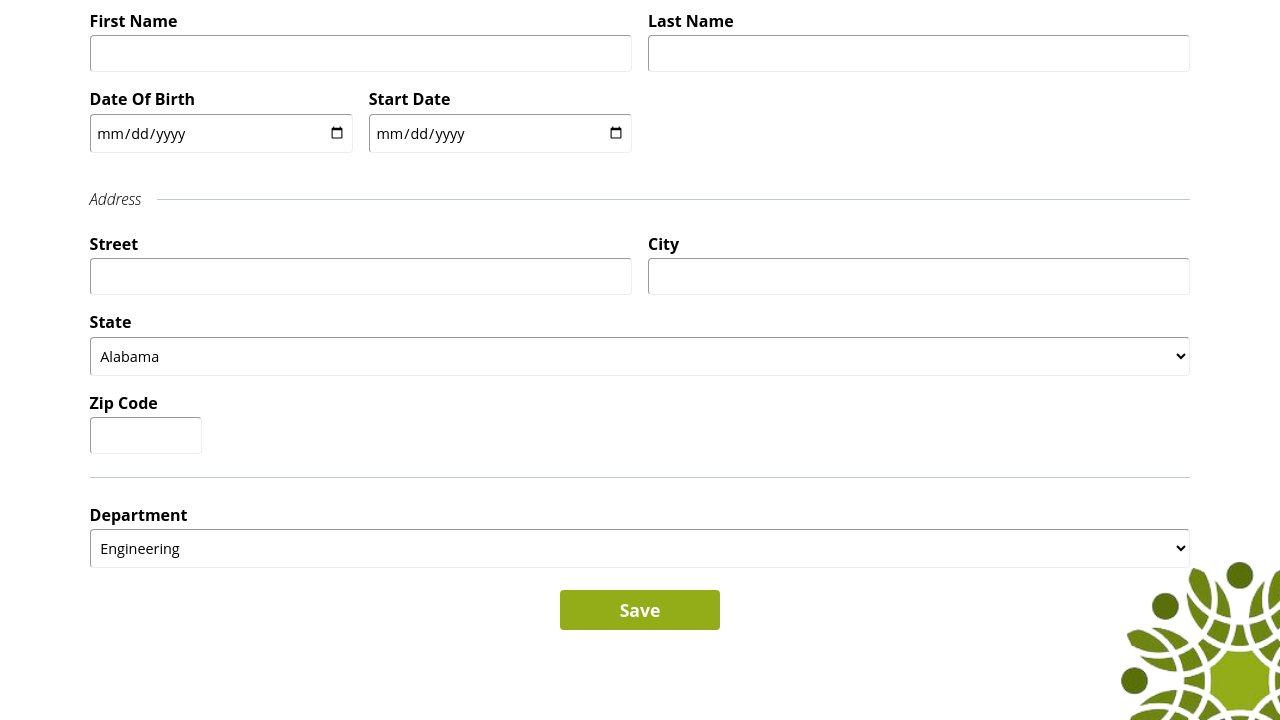
Test case: Modal › should open modal
Type "Bob" into the field with test id "first-name" at (361,54), box top-left (90, 35), bottom-right (632, 72)
Type "Leponge" into the field with test id "last-name" at (919,54), box top-left (648, 35), bottom-right (1190, 72)
Type "1982-08-28" into the date field with test id "date-of-birth" at (221,133), box top-left (90, 114), bottom-right (353, 153)
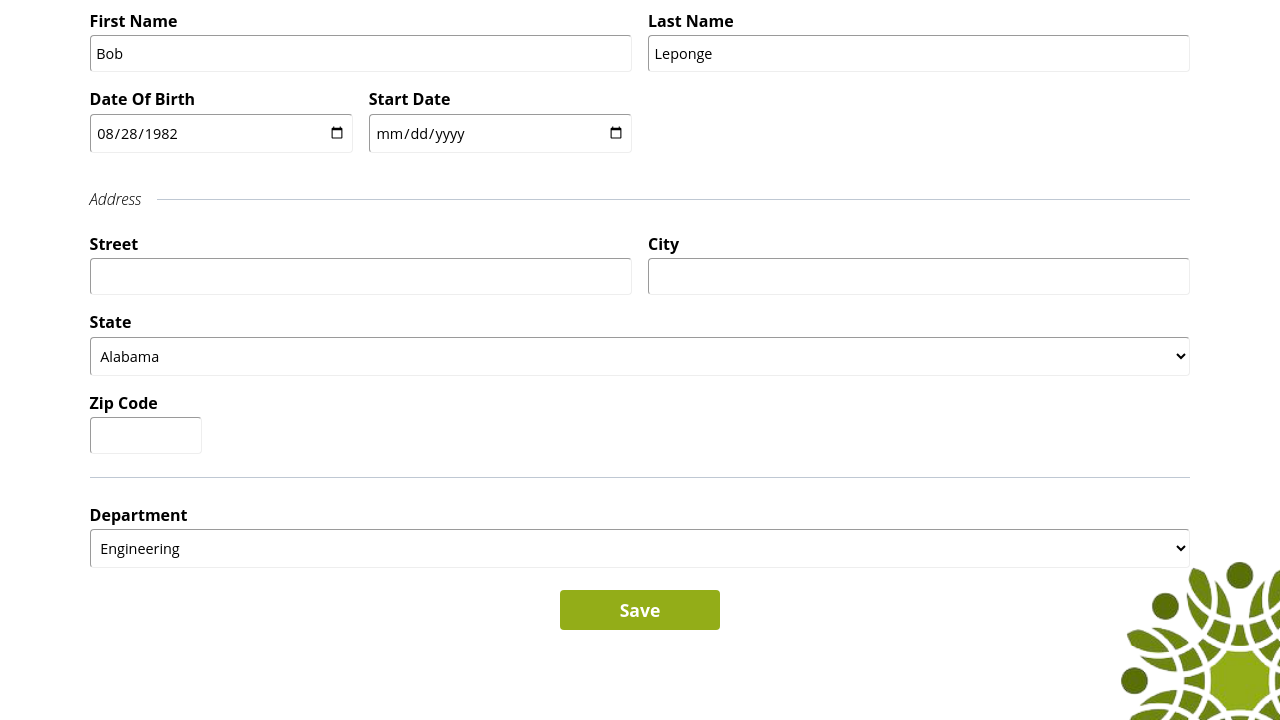
Type "2021-12-10" into the date field with test id "start-date" at (500,133), box top-left (369, 114), bottom-right (632, 153)
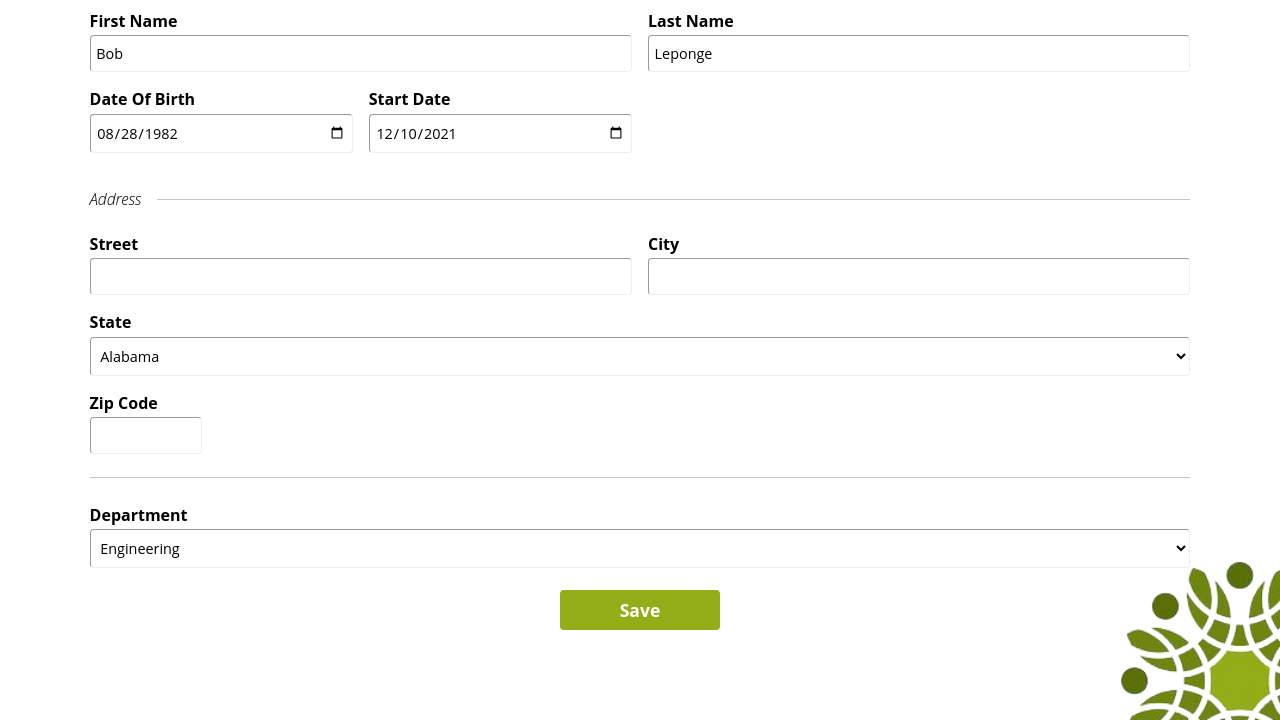
Type "221B Baker street" into the field with test id "street" at (361,277), box top-left (90, 258), bottom-right (632, 295)
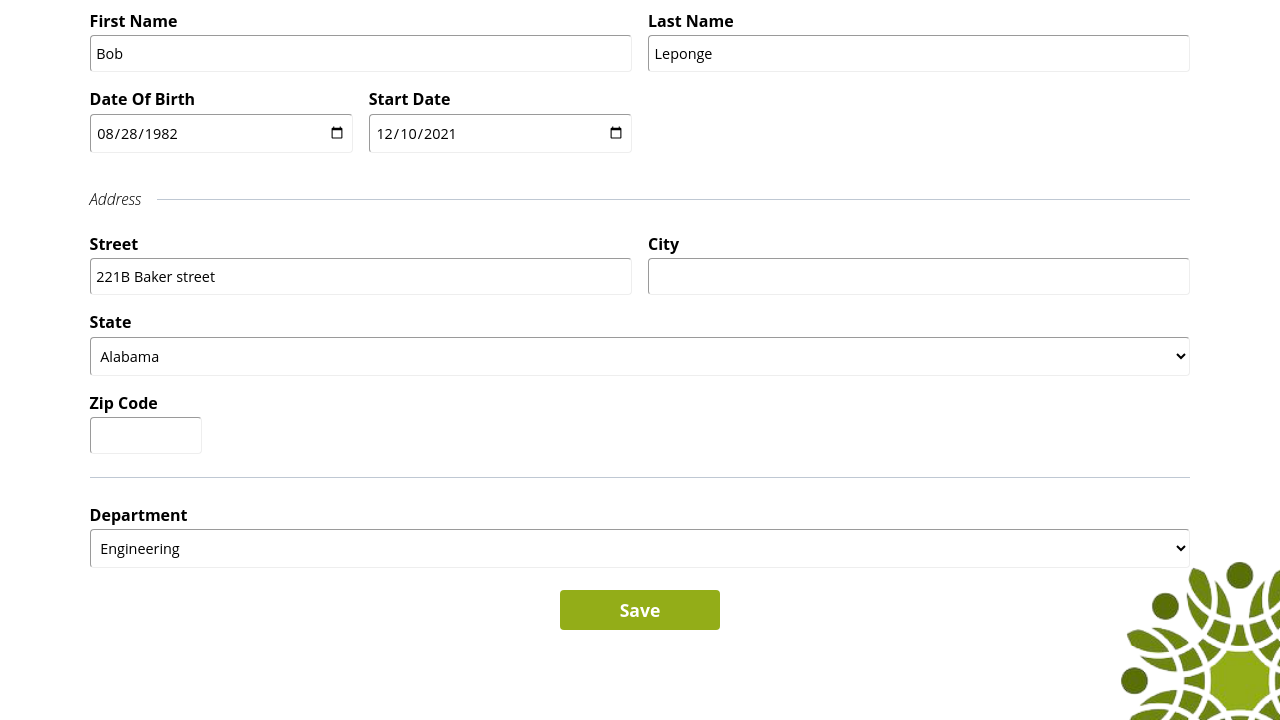
Type "London" into the field with test id "city" at (919,277), box top-left (648, 258), bottom-right (1190, 295)
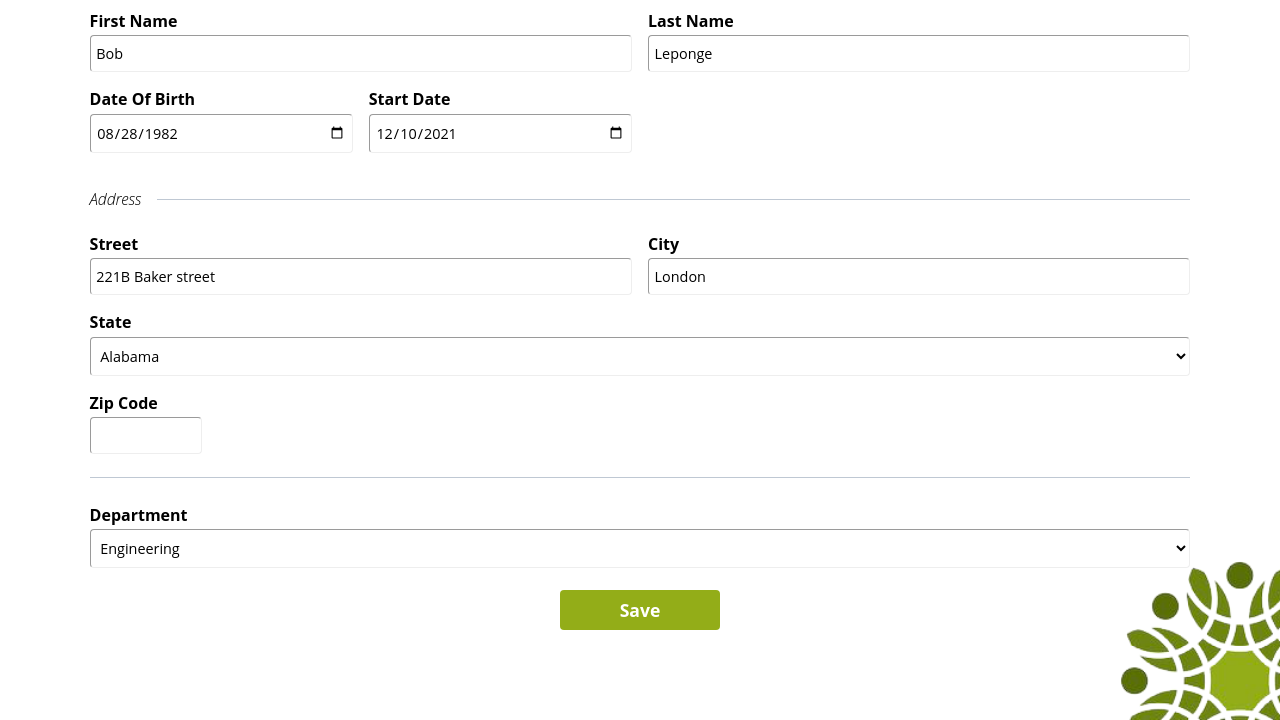
Type "45856" into the number field with test id "zip-code" at (146,436), box top-left (90, 417), bottom-right (202, 454)
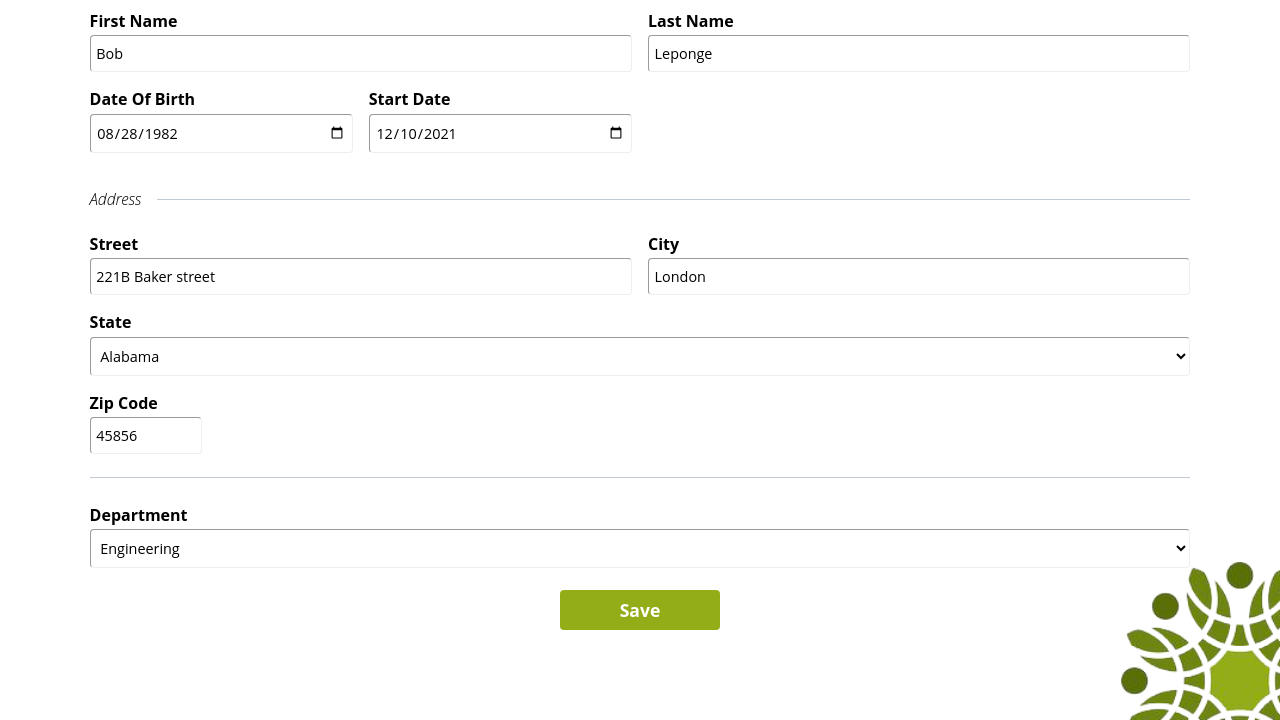
Click the button with test id "save" at (640,610), box top-left (560, 590), bottom-right (720, 630)
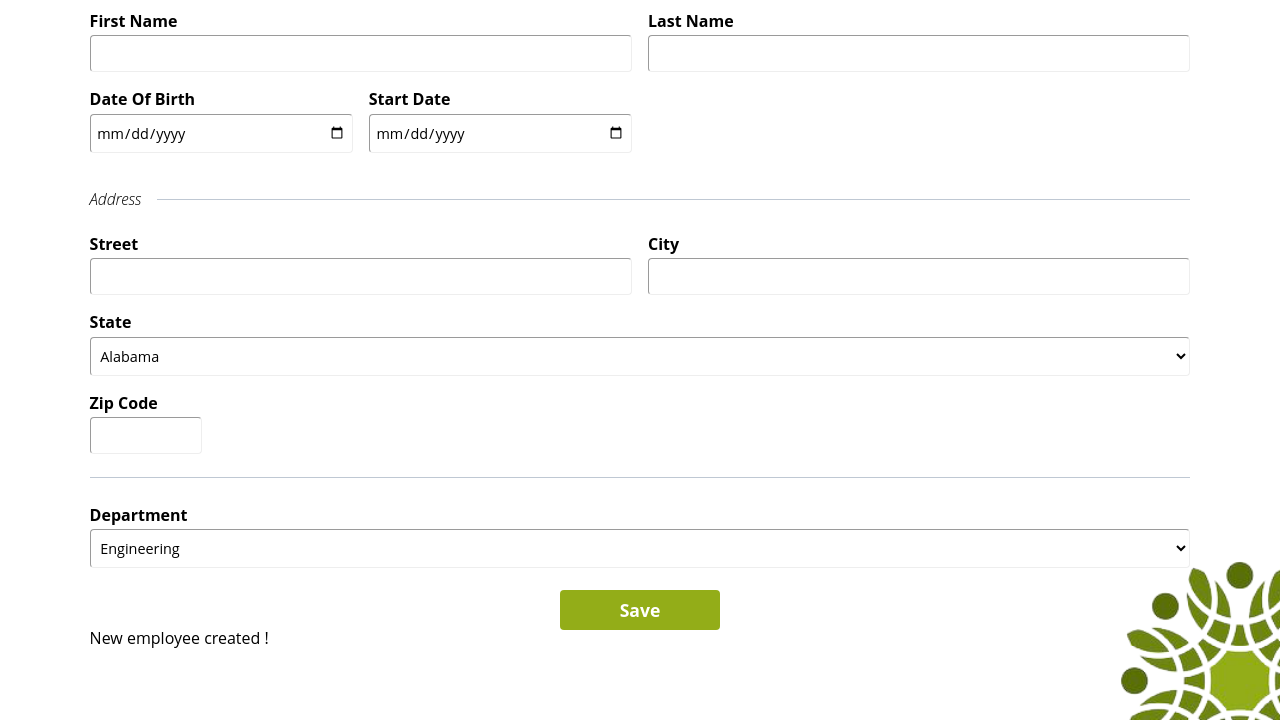
Expected: the text "New employee created !" is shown, top-left (90, 627), bottom-right (269, 649)
